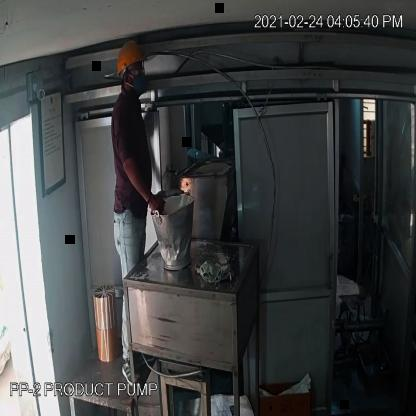helmet: (116, 32, 148, 84)
